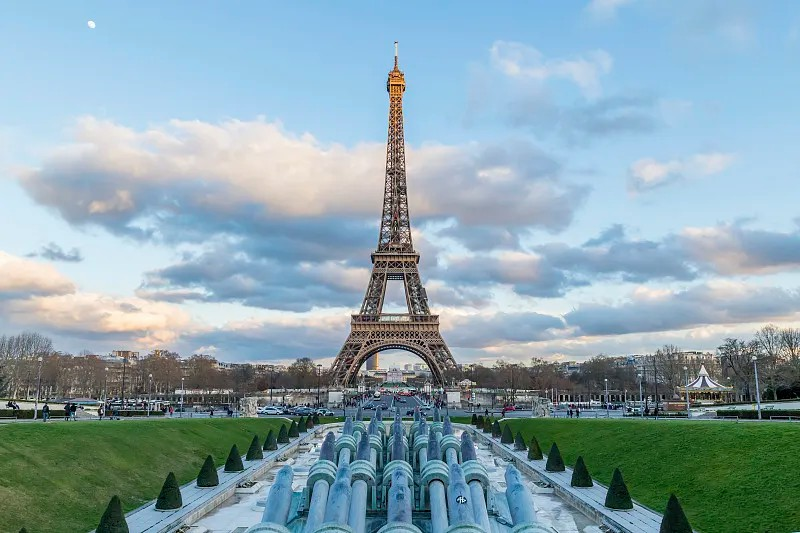Eiffel: (325, 40, 463, 387)
